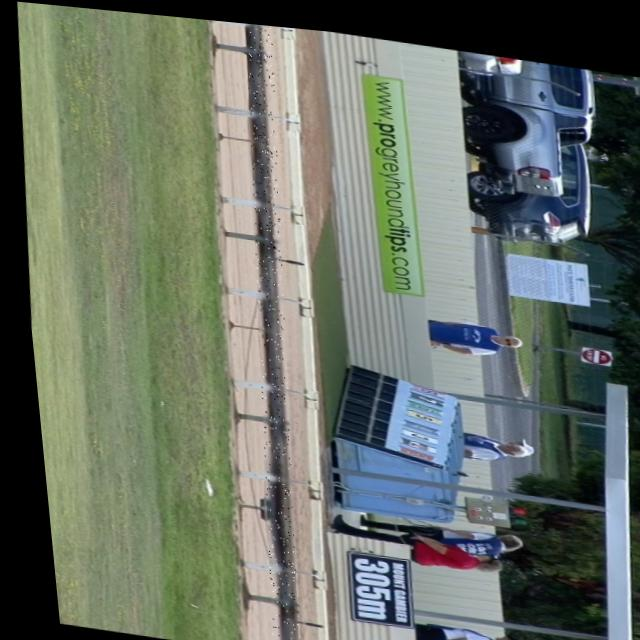rail: (245, 19, 285, 640)
